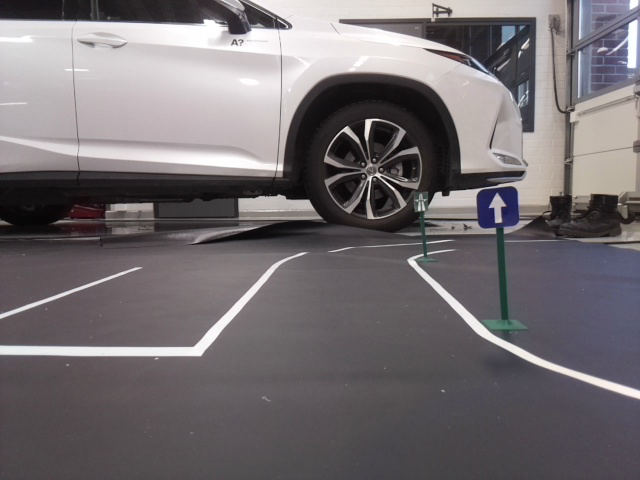HighwayEntrance: (412, 192, 428, 211)
OneWay: (477, 190, 518, 225)
